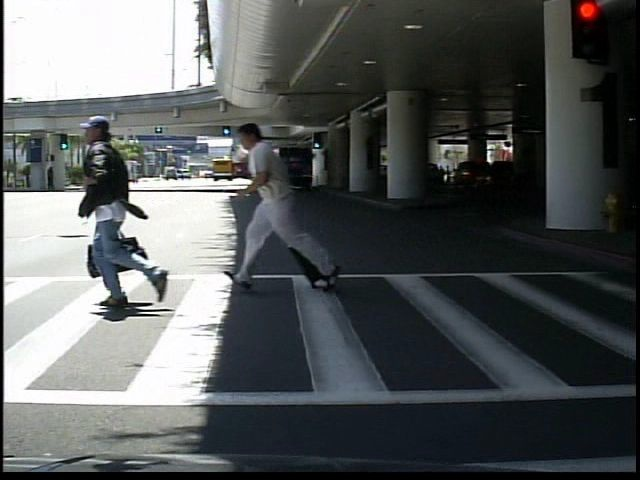person: (79, 112, 167, 313), (248, 116, 320, 294)
